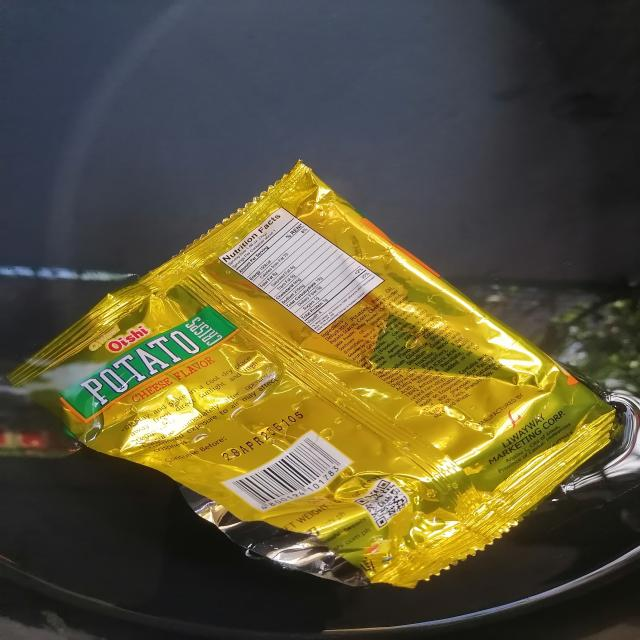Plastic Wrapper: (10, 161, 620, 588)
